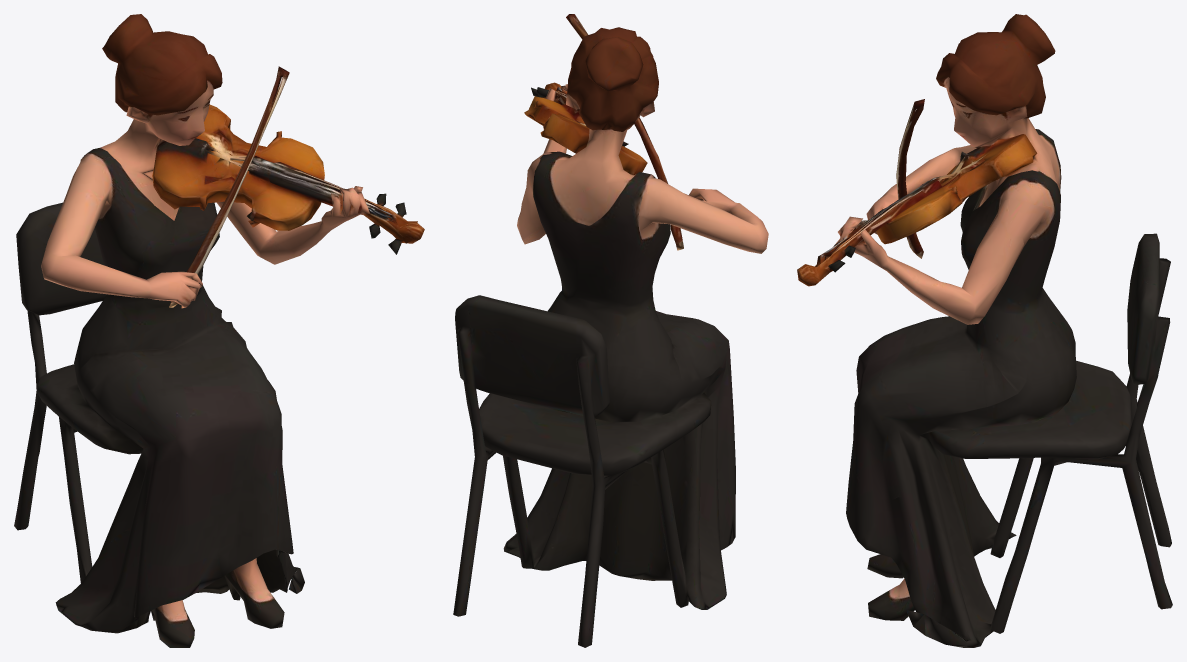
The model's file is violinist.glb.
The picture shows the model from 3 angles, left to right: view 1: azimuth 30°, elevation 25°; view 2: azimuth 150°, elevation 25°; view 3: azimuth 270°, elevation 25°; orthographic projection.
Visible parts, largest first — view 1: tripo_node_f8c526a7-cbb8-455c-9553-4fdc80a1391c; view 2: tripo_node_f8c526a7-cbb8-455c-9553-4fdc80a1391c; view 3: tripo_node_f8c526a7-cbb8-455c-9553-4fdc80a1391c.
Boxes of the visible parts, <box> form: tripo_node_f8c526a7-cbb8-455c-9553-4fdc80a1391c: <box>14,14,424,647</box>; tripo_node_f8c526a7-cbb8-455c-9553-4fdc80a1391c: <box>453,14,768,647</box>; tripo_node_f8c526a7-cbb8-455c-9553-4fdc80a1391c: <box>797,14,1172,647</box>.
Size of the model in its own units: 0.6895 by 1.25 by 0.7493.
Materials: 1 (1 with a texture image).
